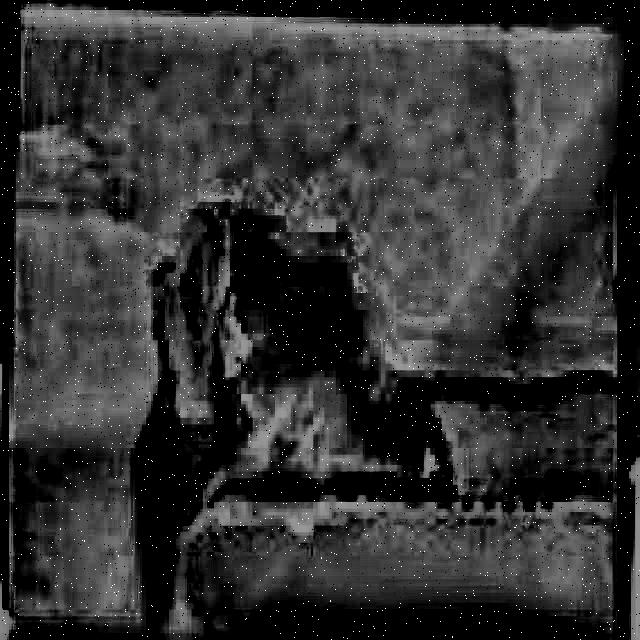box: (0, 2, 640, 637)
hole: (161, 195, 467, 517)
